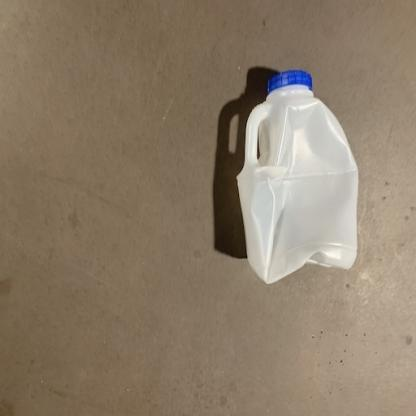trash: (235, 67, 362, 289)
